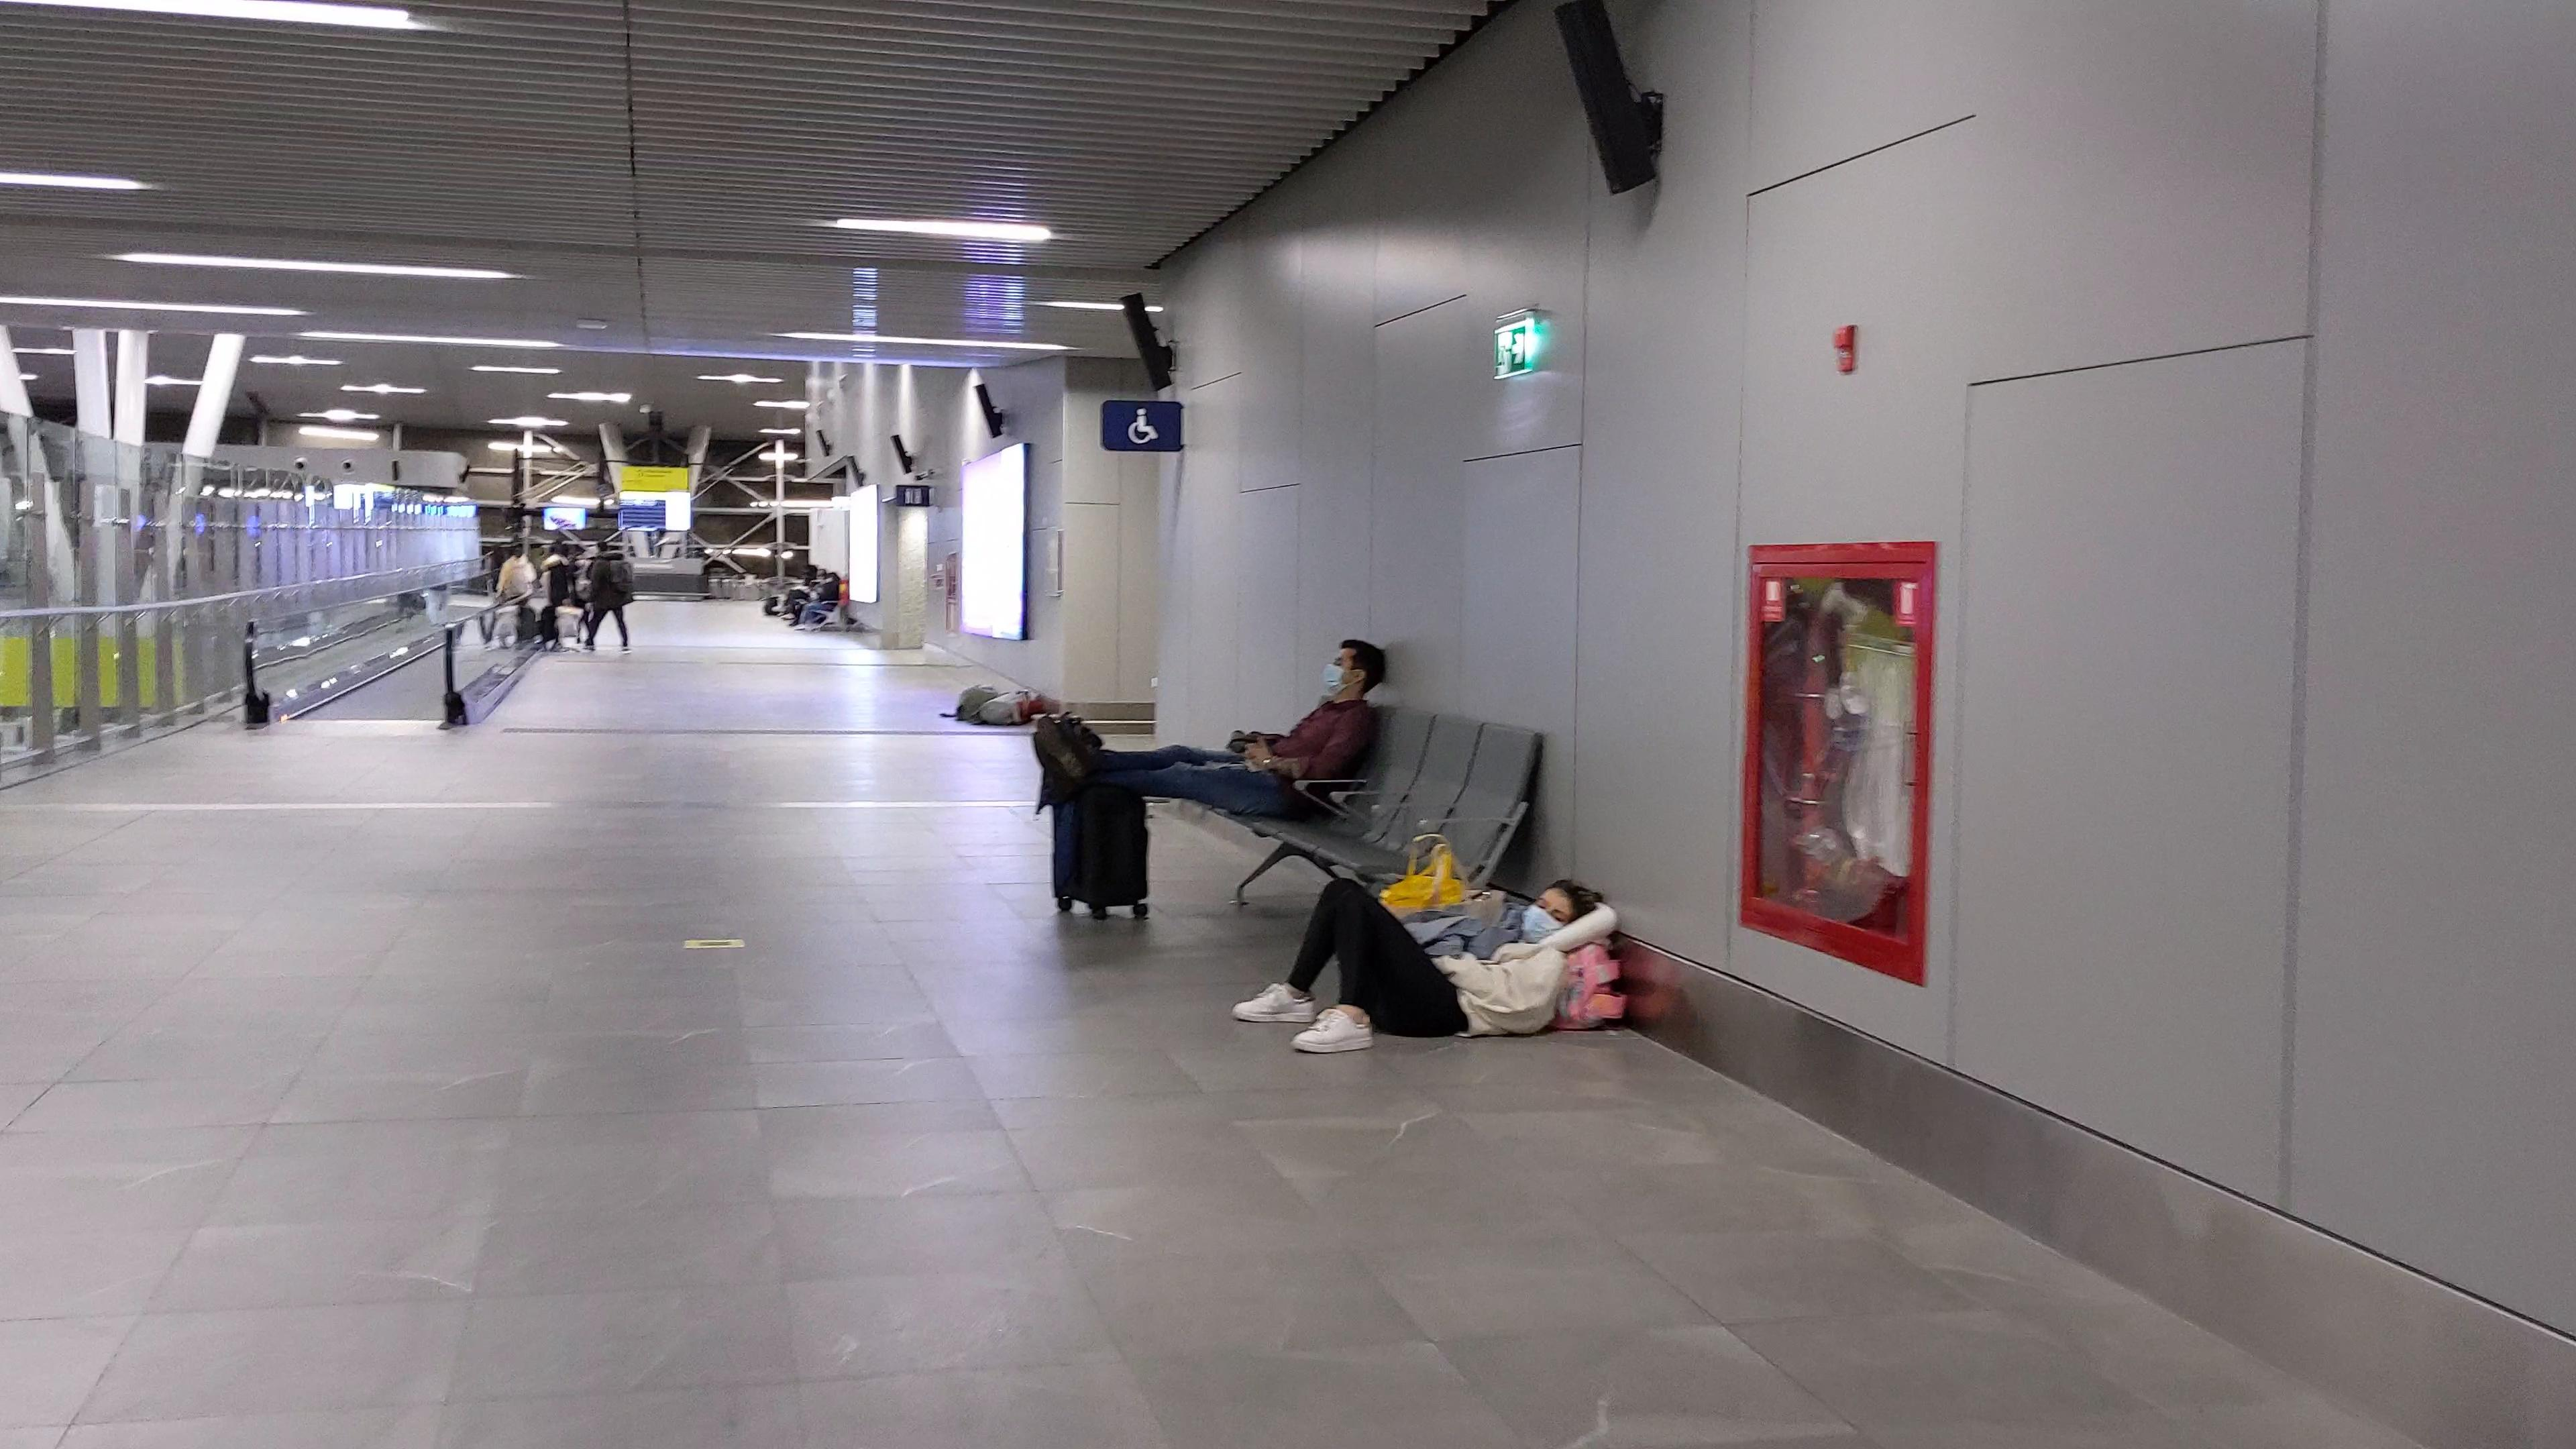bathrooms: (902, 487, 922, 506)
emergency exit: (1495, 333, 1513, 377)
emergency right arrow: (1511, 333, 1525, 363)
handicapped symbol: (1127, 407, 1161, 446)
